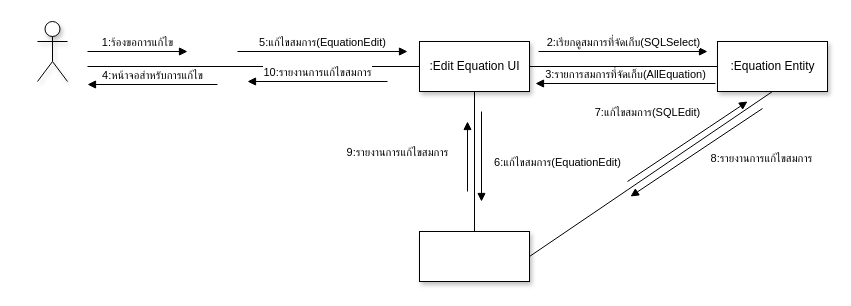
This 851x306 diagram has some shape labels left out. The shapes that lost their labels are listed below. From the top down, each one's centre as x and y in pixels, then its label:
the point at 53,52: specific user
the point at 475,257: : User Specific
